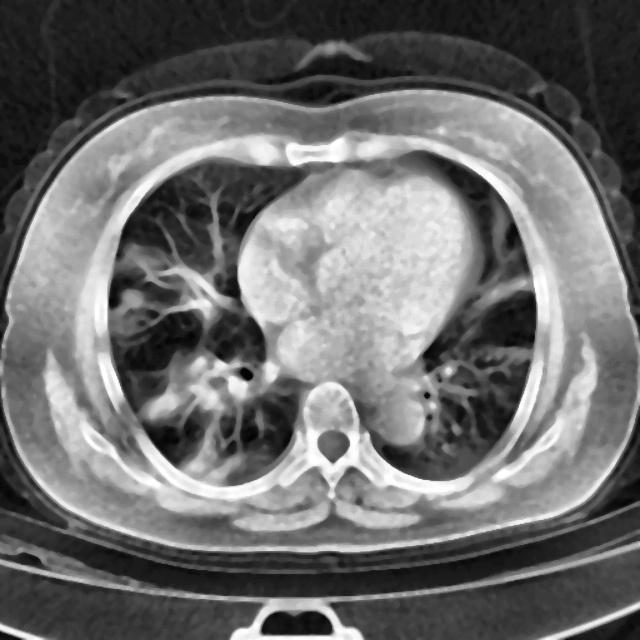covid: (1, 33, 638, 570)
